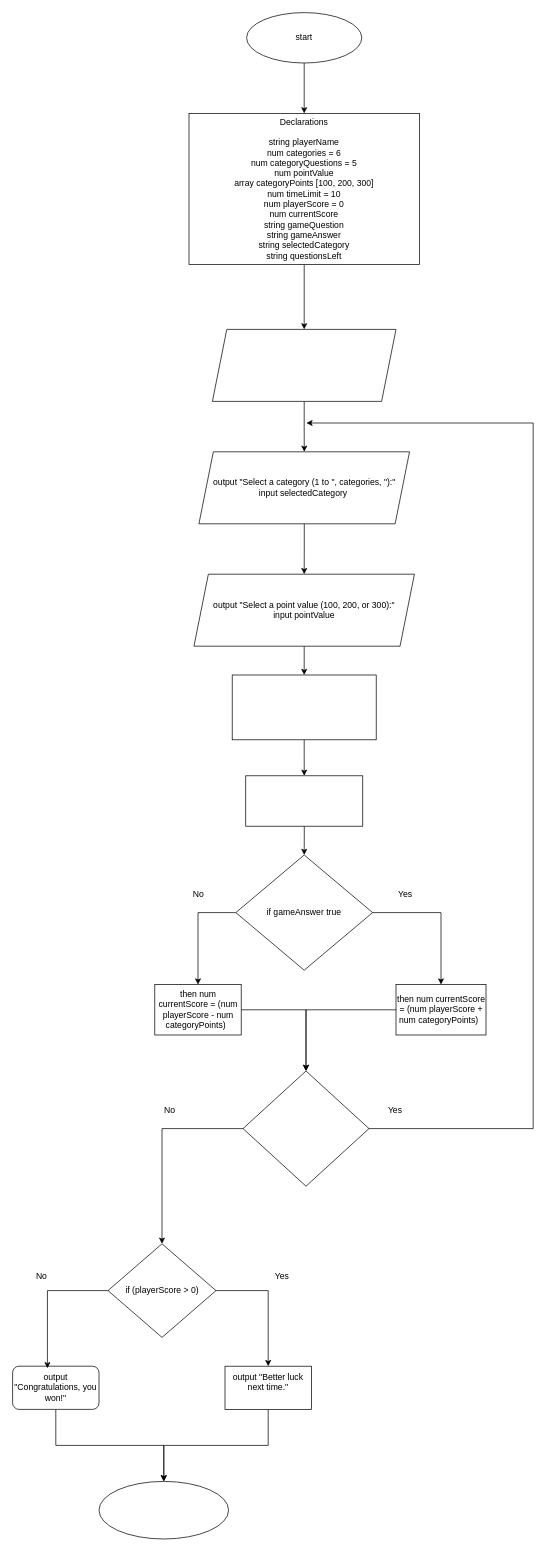
This 552x1552 diagram has some shape labels left out. The box of each missing label's shape, as (x1, y1, x2, y2) in pixels:
end: (98, 1481, 229, 1539)
if questionsLeft true: (242, 1070, 369, 1186)
output "Enter your name to begin!" input playerName: (212, 329, 396, 401)
output "Time's up!" output timer = "0 Seconds": (245, 775, 363, 826)
output gameQuestion = "Sample what-if Question" output timer = "10 Seconds": (231, 674, 376, 740)
